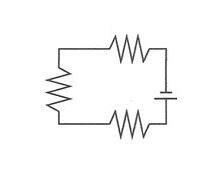resistor: (94, 25, 153, 67), (37, 58, 79, 117), (102, 103, 157, 142)
